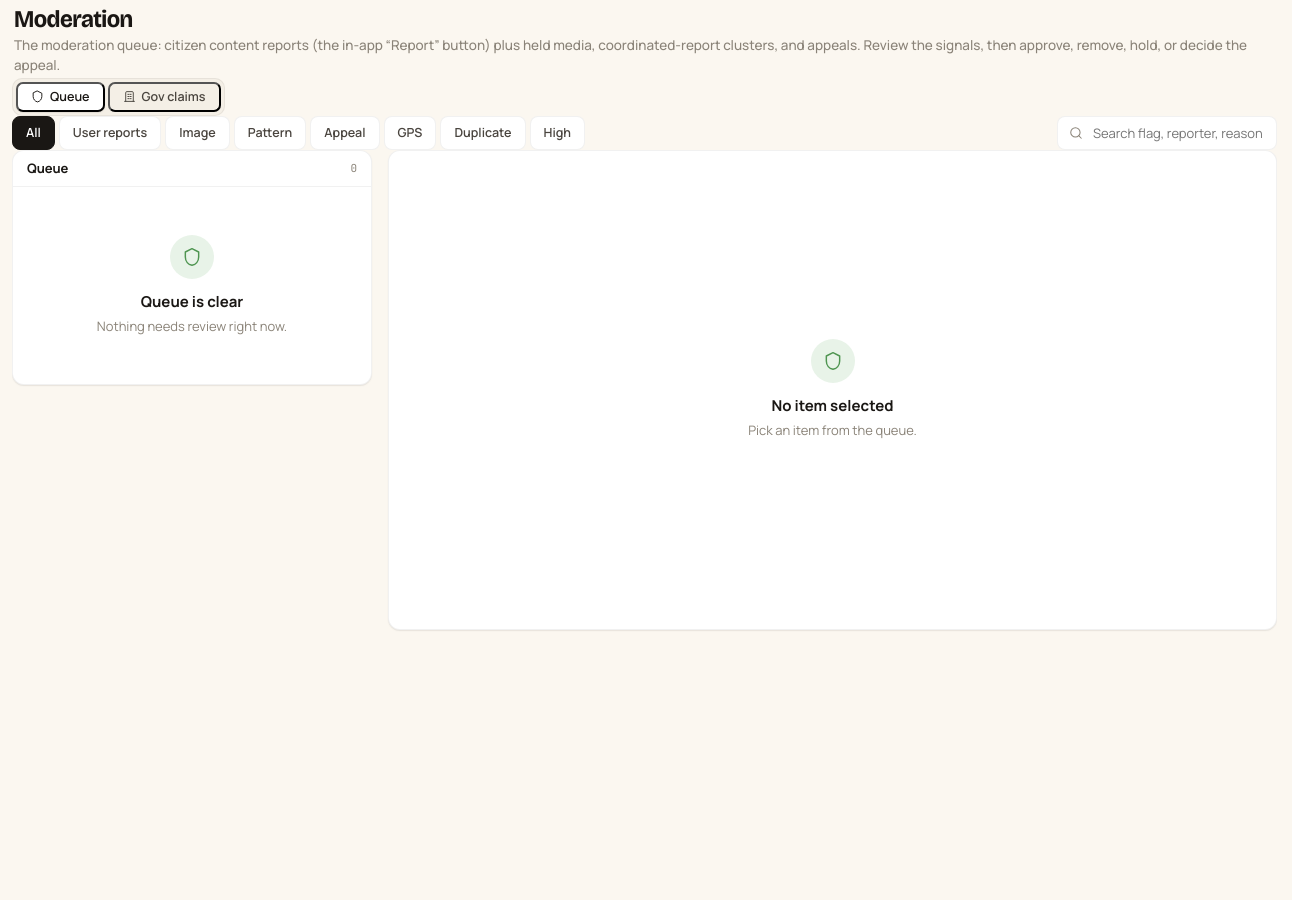
ModerationPage gov claims › switches to the Gov claims section and asks for pending claims by default
Step 1. Click the radio button labelled "Gov claims" → (164, 96), box [108, 82, 220, 112]
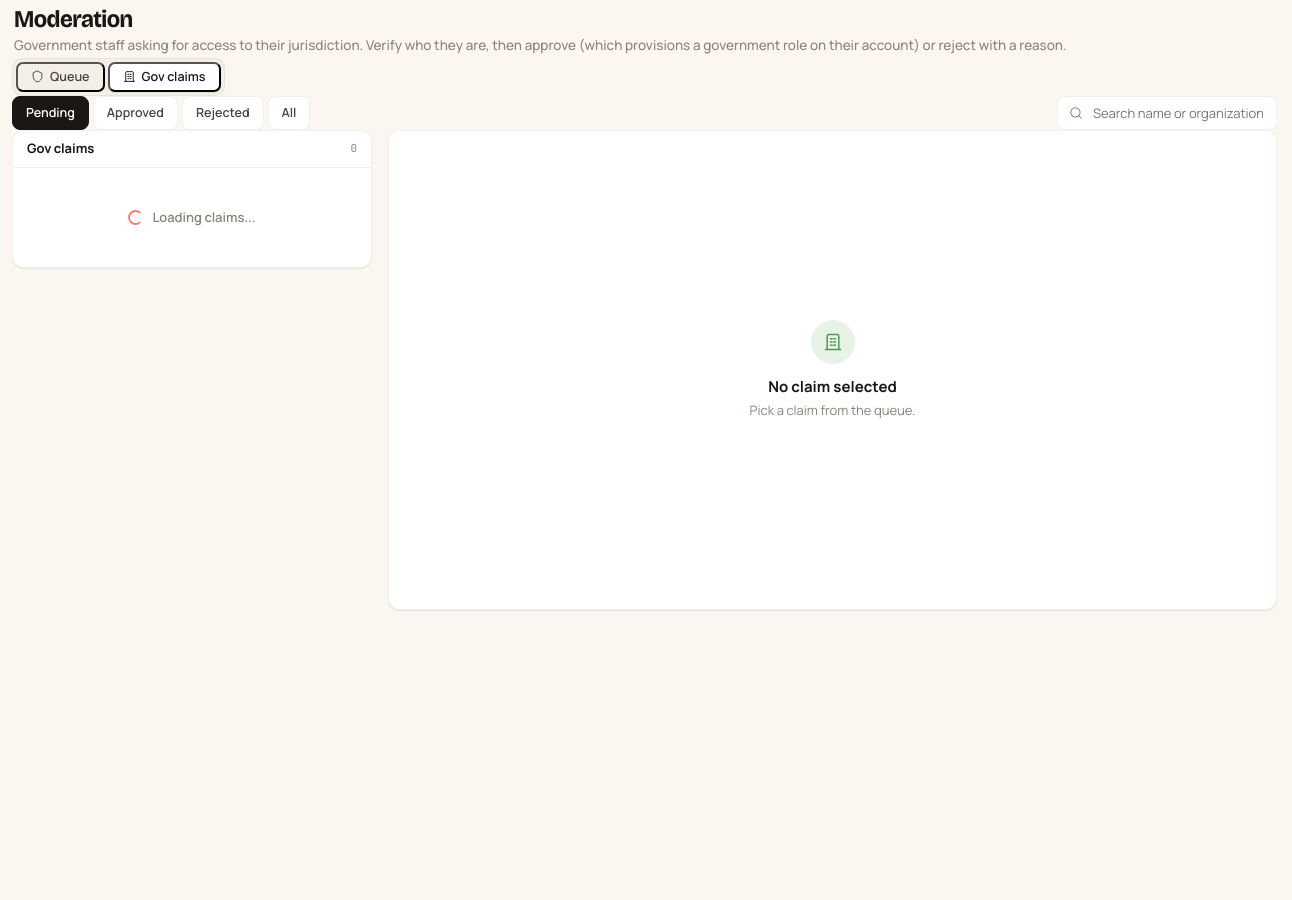
expect the text "Government staff asking for access" is shown: met, box [14, 36, 1067, 54]
expect the message reads "Loading claims...": met, box [152, 208, 256, 226]
expect the text "No claim selected" is shown: met, box [768, 376, 897, 398]
